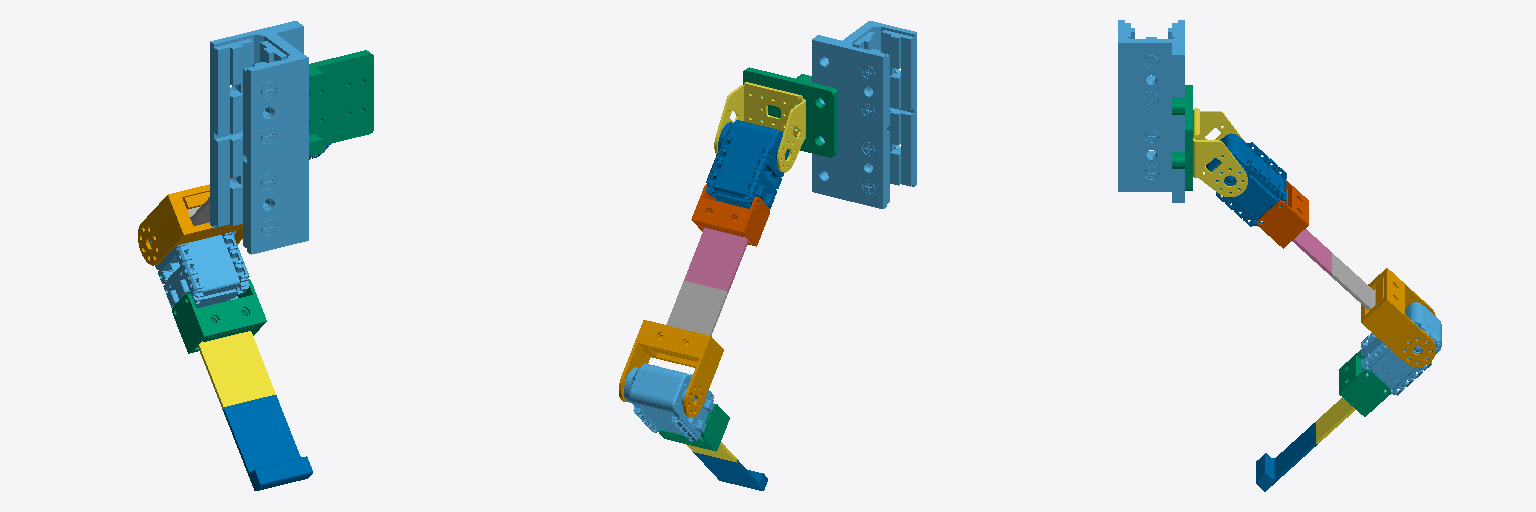
robot.urdf — single_leg_sys:
<?xml version="1.0" ?>
<robot name="single_leg_sys">

<material name="silver">
  <color rgba="0.700 0.700 0.700 1.000"/>
</material>

<link name="base_link">
  <inertial>
    <origin rpy="0 0 0" xyz="4.925940525065198e-06 -7.651009513293677e-06 0.3048000000000005"/>
    <mass value="0.8358859186342781"/>
    <inertia ixx="0.025942557167314348" ixy="2.442599986017998e-07" ixz="2.455802623974393e-17" iyy="0.026095600502993976" iyz="3.2187251995663413e-18" izz="0.00026726238076374095"/>
  </inertial>
  <visual>
    <origin rpy="0 0 0" xyz="0 0 0"/>
    <geometry>
      <mesh filename="meshes/base_link.stl" scale="0.001 0.001 0.001"/>
    </geometry>
    <material name="silver"/>
    <material/>
  </visual>
  <collision>
    <origin rpy="0 0 0" xyz="0 0 0"/>
    <geometry>
      <mesh filename="meshes/base_link.stl" scale="0.001 0.001 0.001"/>
    </geometry>
  </collision>
</link>

<link name="slider_link1">
  <inertial>
    <origin rpy="0 0 0" xyz="0.0015766722898943701 0.0028143774129374168 -0.6738854999999992"/>
    <mass value="0.19749754296872896"/>
    <inertia ixx="0.0002137820185108743" ixy="-9.419830687332601e-06" ixz="4.336808689942018e-19" iyy="0.00019864162290281207" iyz="5.692061405548898e-19" izz="7.223465034421269e-05"/>
  </inertial>
  <visual>
    <origin rpy="0 0 0" xyz="-0.0254 -0.0 -0.9144"/>
    <geometry>
      <mesh filename="meshes/slider_link1.stl" scale="0.001 0.001 0.001"/>
    </geometry>
    <material name="silver"/>
    <material/>
  </visual>
  <collision>
    <origin rpy="0 0 0" xyz="-0.0254 -0.0 -0.9144"/>
    <geometry>
      <mesh filename="meshes/slider_link1.stl" scale="0.001 0.001 0.001"/>
    </geometry>
  </collision>
</link>

<link name="slider2link_link1">
  <inertial>
    <origin rpy="0 0 0" xyz="0.021931271348161967 0.001922599462068443 -0.012700496136799716"/>
    <mass value="0.019652651784237904"/>
    <inertia ixx="3.7018050920193616e-06" ixy="-8.331684910160175e-08" ixz="-7.221661419906655e-13" iyy="9.603823444437592e-06" iyz="-4.686042406974039e-14" izz="6.140818390693205e-06"/>
  </inertial>
  <visual>
    <origin rpy="0 0 0" xyz="-0.04351 -0.020625 -0.253215"/>
    <geometry>
      <mesh filename="meshes/slider2link_link1.stl" scale="0.001 0.001 0.001"/>
    </geometry>
    <material name="silver"/>
    <material/>
  </visual>
  <collision>
    <origin rpy="0 0 0" xyz="-0.04351 -0.020625 -0.253215"/>
    <geometry>
      <mesh filename="meshes/slider2link_link1.stl" scale="0.001 0.001 0.001"/>
    </geometry>
  </collision>
</link>

<link name="bracket_link1">
  <inertial>
    <origin rpy="0 0 0" xyz="-0.015999789518382823 0.009448952062751093 -0.010246512523183093"/>
    <mass value="0.011414492915603529"/>
    <inertia ixx="2.3450001477841884e-06" ixy="-6.72568239572539e-13" ixz="3.716305692000321e-13" iyy="5.100295981995493e-06" iyz="5.824113175258042e-07" izz="4.99235008351469e-06"/>
  </inertial>
  <visual>
    <origin rpy="0 0 0" xyz="-0.090953 -0.025705 -0.248514"/>
    <geometry>
      <mesh filename="meshes/bracket_link1.stl" scale="0.001 0.001 0.001"/>
    </geometry>
    <material name="silver"/>
    <material/>
  </visual>
  <collision>
    <origin rpy="0 0 0" xyz="-0.090953 -0.025705 -0.248514"/>
    <geometry>
      <mesh filename="meshes/bracket_link1.stl" scale="0.001 0.001 0.001"/>
    </geometry>
  </collision>
</link>

<link name="ax12_link_11">
  <inertial>
    <origin rpy="0 0 0" xyz="6.88093765954384e-05 0.009002929336181555 -0.009023757044396286"/>
    <mass value="0.05454339808474321"/>
    <inertia ixx="1.323654432180358e-05" ixy="1.0887812956452596e-07" ixz="-1.0014883743950011e-07" iyy="1.2241996938562594e-05" iyz="3.5172832566007653e-06" izz="1.2209067545325782e-05"/>
  </inertial>
  <visual>
    <origin rpy="0 0 0" xyz="-0.074953 -0.048705 -0.225806"/>
    <geometry>
      <mesh filename="meshes/ax12_link_11.stl" scale="0.001 0.001 0.001"/>
    </geometry>
    <material name="silver"/>
    <material/>
  </visual>
  <collision>
    <origin rpy="0 0 0" xyz="-0.074953 -0.048705 -0.225806"/>
    <geometry>
      <mesh filename="meshes/ax12_link_11.stl" scale="0.001 0.001 0.001"/>
    </geometry>
  </collision>
</link>

<link name="motor2link_link_11">
  <inertial>
    <origin rpy="0 0 0" xyz="-0.016380799524990317 0.006474653197383981 -0.01259130451814422"/>
    <mass value="0.022169863063474186"/>
    <inertia ixx="1.2789131306240216e-06" ixy="-2.8687989483966447e-16" ixz="5.117434254131581e-16" iyy="2.954980484384329e-06" iyz="-1.889300005558734e-08" izz="3.043302145910821e-06"/>
  </inertial>
  <visual>
    <origin rpy="0 0 0" xyz="-0.089953 -0.079818 -0.206007"/>
    <geometry>
      <mesh filename="meshes/motor2link_link_11.stl" scale="0.001 0.001 0.001"/>
    </geometry>
    <material name="silver"/>
    <material/>
  </visual>
  <collision>
    <origin rpy="0 0 0" xyz="-0.089953 -0.079818 -0.206007"/>
    <geometry>
      <mesh filename="meshes/motor2link_link_11.stl" scale="0.001 0.001 0.001"/>
    </geometry>
  </collision>
</link>

<link name="link_link_11">
  <inertial>
    <origin rpy="0 0 0" xyz="2.0047502154174612e-07 0.0038893617209924264 -0.01227968794294479"/>
    <mass value="0.006177277605634364"/>
    <inertia ixx="1.2751923299132977e-06" ixy="0.0" ixz="1.3552527156068805e-20" iyy="1.2359311878741618e-06" iyz="6.003735109631671e-07" izz="9.957409228495627e-07"/>
  </inertial>
  <visual>
    <origin rpy="0 0 0" xyz="-0.073572 -0.086859 -0.193215"/>
    <geometry>
      <mesh filename="meshes/link_link_11.stl" scale="0.001 0.001 0.001"/>
    </geometry>
    <material name="silver"/>
    <material/>
  </visual>
  <collision>
    <origin rpy="0 0 0" xyz="-0.073572 -0.086859 -0.193215"/>
    <geometry>
      <mesh filename="meshes/link_link_11.stl" scale="0.001 0.001 0.001"/>
    </geometry>
  </collision>
</link>

<link name="link_link_21">
  <inertial>
    <origin rpy="0 0 0" xyz="2.0047502186093524e-07 0.022675432039962945 -0.020266758261915152"/>
    <mass value="0.006177277605634364"/>
    <inertia ixx="1.2751923299134603e-06" ixy="1.3552527156068805e-20" ixz="1.3552527156068805e-20" iyy="9.957409228490341e-07" iyz="6.00373510962625e-07" izz="1.235931187873701e-06"/>
  </inertial>
  <visual>
    <origin rpy="0 0 0" xyz="-0.073572 -0.111016 -0.158259"/>
    <geometry>
      <mesh filename="meshes/link_link_21.stl" scale="0.001 0.001 0.001"/>
    </geometry>
    <material name="silver"/>
    <material/>
  </visual>
  <collision>
    <origin rpy="0 0 0" xyz="-0.073572 -0.111016 -0.158259"/>
    <geometry>
      <mesh filename="meshes/link_link_21.stl" scale="0.001 0.001 0.001"/>
    </geometry>
  </collision>
</link>

<link name="link2motor_link1">
  <inertial>
    <origin rpy="0 0 0" xyz="2.0047504499520752e-07 0.0010134901677659458 -0.005499145564518193"/>
    <mass value="0.01571037251973869"/>
    <inertia ixx="2.682662650665079e-06" ixy="-2.9235511581071627e-16" ixz="5.060513640076092e-16" iyy="6.060974227767421e-06" iyz="5.144583220115435e-07" izz="5.968651405587316e-06"/>
  </inertial>
  <visual>
    <origin rpy="0 0 0" xyz="-0.073572 -0.145971 -0.134103"/>
    <geometry>
      <mesh filename="meshes/link2motor_link1.stl" scale="0.001 0.001 0.001"/>
    </geometry>
    <material name="silver"/>
    <material/>
  </visual>
  <collision>
    <origin rpy="0 0 0" xyz="-0.073572 -0.145971 -0.134103"/>
    <geometry>
      <mesh filename="meshes/link2motor_link1.stl" scale="0.001 0.001 0.001"/>
    </geometry>
  </collision>
</link>

<link name="ax12_link_21">
  <inertial>
    <origin rpy="0 0 0" xyz="6.880937659485553e-05 -0.009023509330774837 -0.009003207782770736"/>
    <mass value="0.05454339808474321"/>
    <inertia ixx="1.3236544321803146e-05" ixy="-1.0014883743950011e-07" ixz="-1.0887812956452596e-07" iyy="1.2209067545326325e-05" iyz="-3.517283256600982e-06" izz="1.224199693856281e-05"/>
  </inertial>
  <visual>
    <origin rpy="0 0 0" xyz="-0.073572 -0.16483 -0.109856"/>
    <geometry>
      <mesh filename="meshes/ax12_link_21.stl" scale="0.001 0.001 0.001"/>
    </geometry>
    <material name="silver"/>
    <material/>
  </visual>
  <collision>
    <origin rpy="0 0 0" xyz="-0.073572 -0.16483 -0.109856"/>
    <geometry>
      <mesh filename="meshes/ax12_link_21.stl" scale="0.001 0.001 0.001"/>
    </geometry>
  </collision>
</link>

<link name="motor2link_link_21">
  <inertial>
    <origin rpy="0 0 0" xyz="-0.01638079952498296 -0.0041277907822307724 -0.013810507514952372"/>
    <mass value="0.008970870453851025"/>
    <inertia ixx="8.42969928766511e-07" ixy="-2.878692293220575e-16" ixz="-5.112555344355396e-16" iyy="1.746462169067902e-06" iyz="1.138234762341052e-07" izz="1.7741821227760211e-06"/>
  </inertial>
  <visual>
    <origin rpy="0 0 0" xyz="-0.088572 -0.133717 -0.090057"/>
    <geometry>
      <mesh filename="meshes/motor2link_link_21.stl" scale="0.001 0.001 0.001"/>
    </geometry>
    <material name="silver"/>
    <material/>
  </visual>
  <collision>
    <origin rpy="0 0 0" xyz="-0.088572 -0.133717 -0.090057"/>
    <geometry>
      <mesh filename="meshes/motor2link_link_21.stl" scale="0.001 0.001 0.001"/>
    </geometry>
  </collision>
</link>

<link name="link_link_31">
  <inertial>
    <origin rpy="0 0 0" xyz="2.0047502211073542e-07 -0.003889578109907671 -0.012280502286997091"/>
    <mass value="0.006177277605634364"/>
    <inertia ixx="1.275192329913352e-06" ixy="0.0" ixz="0.0" iyy="1.2359311878739381e-06" iyz="-6.003735109629029e-07" izz="9.95740922849251e-07"/>
  </inertial>
  <visual>
    <origin rpy="0 0 0" xyz="-0.072191 -0.126676 -0.077266"/>
    <geometry>
      <mesh filename="meshes/link_link_31.stl" scale="0.001 0.001 0.001"/>
    </geometry>
    <material name="silver"/>
    <material/>
  </visual>
  <collision>
    <origin rpy="0 0 0" xyz="-0.072191 -0.126676 -0.077266"/>
    <geometry>
      <mesh filename="meshes/link_link_31.stl" scale="0.001 0.001 0.001"/>
    </geometry>
  </collision>
</link>

<link name="link_link_41">
  <inertial>
    <origin rpy="0 0 0" xyz="2.0047502230502445e-07 -0.02267564842887819 -0.02026757260596773"/>
    <mass value="0.006177277605634364"/>
    <inertia ixx="1.2751923299133858e-06" ixy="6.776263578034403e-21" ixz="-1.6940658945086007e-21" iyy="9.957409228492442e-07" iyz="-6.003735109628588e-07" izz="1.2359311878738772e-06"/>
  </inertial>
  <visual>
    <origin rpy="0 0 0" xyz="-0.072191 -0.102519 -0.04231"/>
    <geometry>
      <mesh filename="meshes/link_link_41.stl" scale="0.001 0.001 0.001"/>
    </geometry>
    <material name="silver"/>
    <material/>
  </visual>
  <collision>
    <origin rpy="0 0 0" xyz="-0.072191 -0.102519 -0.04231"/>
    <geometry>
      <mesh filename="meshes/link_link_41.stl" scale="0.001 0.001 0.001"/>
    </geometry>
  </collision>
</link>

<joint name="slider_1" type="prismatic">
  <origin rpy="0 0 0" xyz="0.0254 0.0 0.9144"/>
  <parent link="base_link"/>
  <child link="slider_link1"/>
  <axis xyz="0.0 -0.0 -1.0"/>
  <limit effort="100" lower="-0.25" upper="0.15" velocity="100"/>
</joint>
<transmission name="slider_1_tran">
  <type>transmission_interface/SimpleTransmission</type>
  <joint name="slider_1">
    <hardwareInterface>PositionJointInterface</hardwareInterface>
  </joint>
  <actuator name="slider_1_actr">
    <hardwareInterface>PositionJointInterface</hardwareInterface>
    <mechanicalReduction>1</mechanicalReduction>
  </actuator>
</transmission>

<joint name="rigid_1" type="fixed">
  <origin rpy="0 0 0" xyz="0.01811 0.020625 -0.661185"/>
  <parent link="slider_link1"/>
  <child link="slider2link_link1"/>
</joint>

<joint name="rigid_2" type="fixed">
  <origin rpy="0 0 0" xyz="0.047443 0.00508 -0.004701"/>
  <parent link="slider2link_link1"/>
  <child link="bracket_link1"/>
</joint>

<joint name="motor_1" type="revolute">
  <origin rpy="0 0 0" xyz="-0.016 0.023 -0.022708"/>
  <parent link="bracket_link1"/>
  <child link="ax12_link_11"/>
  <axis xyz="1.0 0.0 -0.0"/>
  <limit effort="100" lower="-0.610865" upper="0.610865" velocity="100"/>
</joint>
<transmission name="motor_1_tran">
  <type>transmission_interface/SimpleTransmission</type>
  <joint name="motor_1">
    <hardwareInterface>PositionJointInterface</hardwareInterface>
  </joint>
  <actuator name="motor_1_actr">
    <hardwareInterface>PositionJointInterface</hardwareInterface>
    <mechanicalReduction>1</mechanicalReduction>
  </actuator>
</transmission>

<joint name="rigid_3" type="fixed">
  <origin rpy="0 0 0" xyz="0.015 0.031113 -0.019799"/>
  <parent link="ax12_link_11"/>
  <child link="motor2link_link_11"/>
</joint>

<joint name="rigid_4" type="fixed">
  <origin rpy="0 0 0" xyz="-0.016381 0.007041 -0.012792"/>
  <parent link="motor2link_link_11"/>
  <child link="link_link_11"/>
</joint>

<joint name="flex_1" type="revolute">
  <origin rpy="0 0 0" xyz="0.0 0.024157 -0.034956"/>
  <parent link="link_link_11"/>
  <child link="link_link_21"/>
  <axis xyz="1.0 -0.0 0.0"/>
  <limit effort="100" lower="-0.261799" upper="0.261799" velocity="100"/>
</joint>
<transmission name="flex_1_tran">
  <type>transmission_interface/SimpleTransmission</type>
  <joint name="flex_1">
    <hardwareInterface>PositionJointInterface</hardwareInterface>
  </joint>
  <actuator name="flex_1_actr">
    <hardwareInterface>PositionJointInterface</hardwareInterface>
    <mechanicalReduction>1</mechanicalReduction>
  </actuator>
</transmission>

<joint name="rigid_5" type="fixed">
  <origin rpy="0 0 0" xyz="0.0 0.034955 -0.024156"/>
  <parent link="link_link_21"/>
  <child link="link2motor_link1"/>
</joint>

<joint name="motor_2" type="revolute">
  <origin rpy="0 0 0" xyz="0.0 0.018859 -0.024247"/>
  <parent link="link2motor_link1"/>
  <child link="ax12_link_21"/>
  <axis xyz="1.0 0.0 -0.0"/>
  <limit effort="100" lower="-0.610865" upper="0.610865" velocity="100"/>
</joint>
<transmission name="motor_2_tran">
  <type>transmission_interface/SimpleTransmission</type>
  <joint name="motor_2">
    <hardwareInterface>PositionJointInterface</hardwareInterface>
  </joint>
  <actuator name="motor_2_actr">
    <hardwareInterface>PositionJointInterface</hardwareInterface>
    <mechanicalReduction>1</mechanicalReduction>
  </actuator>
</transmission>

<joint name="rigid_6" type="fixed">
  <origin rpy="0 0 0" xyz="0.015 -0.031113 -0.019799"/>
  <parent link="ax12_link_21"/>
  <child link="motor2link_link_21"/>
</joint>

<joint name="rigid_7" type="fixed">
  <origin rpy="0 0 0" xyz="-0.016381 -0.007041 -0.012791"/>
  <parent link="motor2link_link_21"/>
  <child link="link_link_31"/>
</joint>

<joint name="flex_2" type="revolute">
  <origin rpy="0 0 0" xyz="0.0 -0.024157 -0.034956"/>
  <parent link="link_link_31"/>
  <child link="link_link_41"/>
  <axis xyz="1.0 0.0 0.0"/>
  <limit effort="100" lower="-0.261799" upper="0.261799" velocity="100"/>
</joint>
<transmission name="flex_2_tran">
  <type>transmission_interface/SimpleTransmission</type>
  <joint name="flex_2">
    <hardwareInterface>PositionJointInterface</hardwareInterface>
  </joint>
  <actuator name="flex_2_actr">
    <hardwareInterface>PositionJointInterface</hardwareInterface>
    <mechanicalReduction>1</mechanicalReduction>
  </actuator>
</transmission>

</robot>

--- What the picture shows (computed from the rendered views, not written in the file) ---
3 views of the same robot in one strip: view 1: azimuth 30°, elevation 25°; view 2: azimuth 150°, elevation 25°; view 3: azimuth 270°, elevation 25° (orthographic).
Model single_leg_sys with 13 links and 12 joints (4 revolute, 1 prismatic, 7 fixed), rooted at base_link, posed all joints at 0.
Links seen in each view (by area): view 1: slider_link1, slider2link_link1, link_link_41, ax12_link_21, link_link_31, link2motor_link1, motor2link_link_21; view 2: slider_link1, ax12_link_11, link2motor_link1, ax12_link_21, bracket_link1, slider2link_link1, link_link_11, motor2link_link_11, link_link_21, link_link_41, motor2link_link_21; view 3: slider_link1, link2motor_link1, ax12_link_11, bracket_link1, ax12_link_21, motor2link_link_11, motor2link_link_21, link_link_41, slider2link_link1, link_link_21, link_link_11, link_link_31.
Boxes of the visible links, x1,y1,x2,y2 form: slider_link1: (210,21,308,254); slider2link_link1: (309,50,373,156); link_link_41: (222,395,312,490); ax12_link_21: (149,232,249,307); link_link_31: (198,331,275,409); link2motor_link1: (138,184,242,265); motor2link_link_21: (172,279,266,353); slider_link1: (812,21,916,208); ax12_link_11: (706,120,788,208); link2motor_link1: (619,320,723,417); ax12_link_21: (624,363,713,441); bracket_link1: (714,82,805,172); slider2link_link1: (743,67,837,157); link_link_11: (684,228,748,291); motor2link_link_11: (691,184,769,246); link_link_21: (666,281,728,335); link_link_41: (693,452,767,490); motor2link_link_21: (659,404,729,451); slider_link1: (1118,20,1184,202); link2motor_link1: (1361,268,1435,366); ax12_link_11: (1206,133,1286,226); bracket_link1: (1193,108,1247,196); ax12_link_21: (1361,302,1441,395); motor2link_link_11: (1257,180,1308,248); motor2link_link_21: (1339,350,1390,416); link_link_41: (1256,422,1317,491); slider2link_link1: (1172,85,1192,190); link_link_21: (1331,253,1376,310); link_link_11: (1292,229,1331,275); link_link_31: (1316,373,1367,443).
Bounding box of the posed robot: 0.0953 × 0.2003 × 0.2821 m (x, y, z).
Meshes: 13 distinct files referenced, 12 mesh visuals loaded (12 binary STL); not drawn: 1 (reference not matched to a file when rendering).